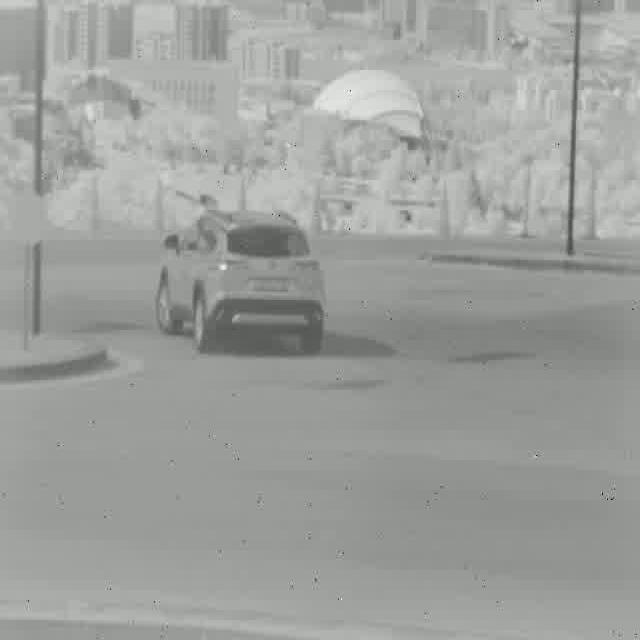Car: (156, 210, 324, 352)
